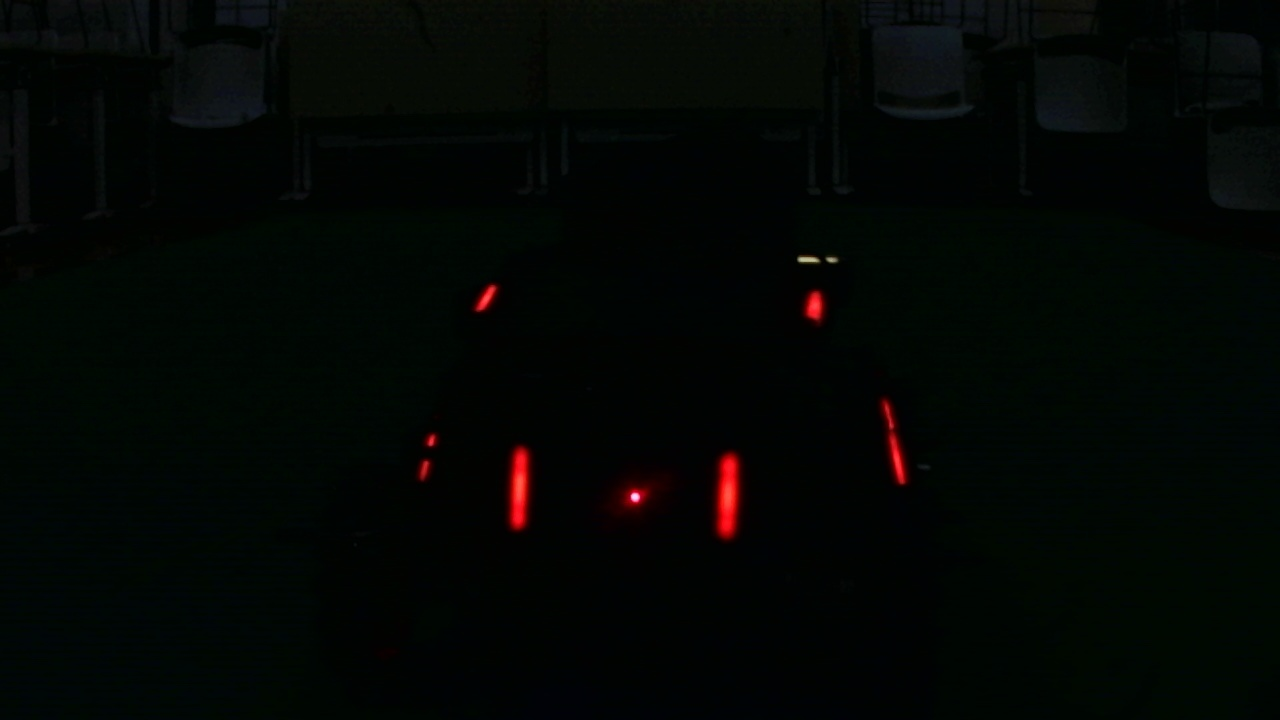lamp: (710, 436, 738, 537), (882, 393, 910, 481), (510, 439, 526, 531)
notpair1: (715, 398, 909, 540)
pair1: (511, 443, 741, 537)
